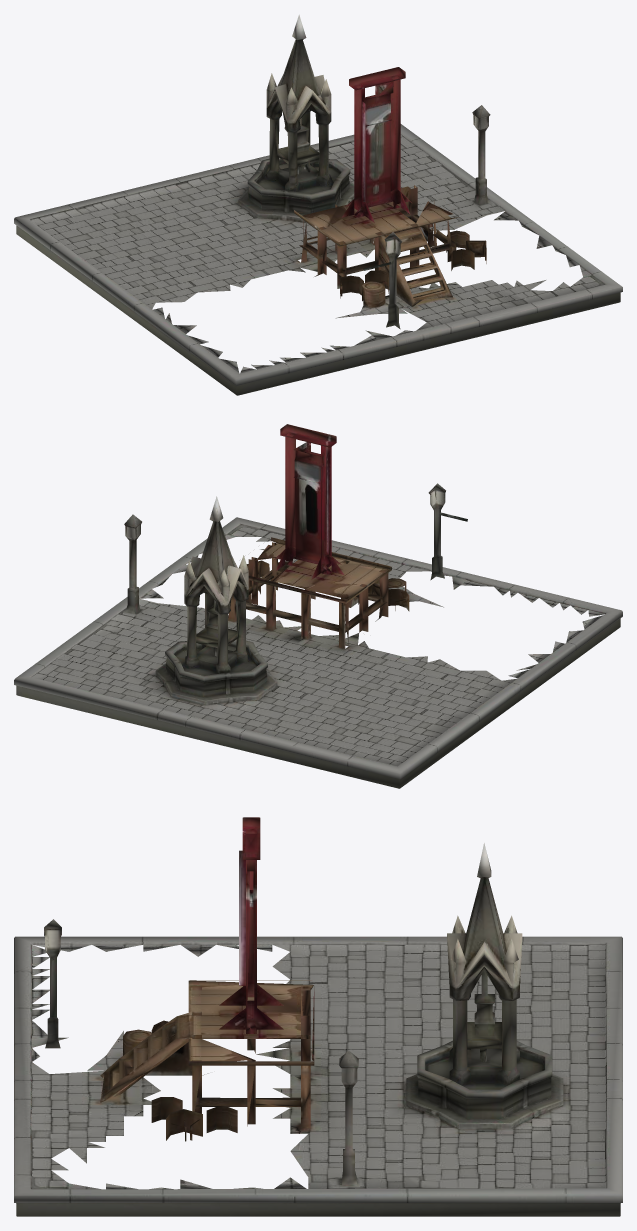
The model's file is square.glb.
3 renders of one model, top to bottom at view 1: azimuth 30°, elevation 25°; view 2: azimuth 150°, elevation 25°; view 3: azimuth 270°, elevation 25°, orthographic. The views are drawn at different scales.
Visible parts, largest first — view 1: tripo_node_f58a82ca-0949-4ae0-bfe0-8f483; view 2: tripo_node_f58a82ca-0949-4ae0-bfe0-8f483; view 3: tripo_node_f58a82ca-0949-4ae0-bfe0-8f483.
Part boxes in pixels (x1,y1,x2,y2): tripo_node_f58a82ca-0949-4ae0-bfe0-8f483: (14, 14, 622, 395); tripo_node_f58a82ca-0949-4ae0-bfe0-8f483: (14, 424, 622, 788); tripo_node_f58a82ca-0949-4ae0-bfe0-8f483: (14, 817, 622, 1216).
Bounding box in the file's own units: 17.89 × 9 × 17.82.
Materials: 1 (1 with a texture image).
